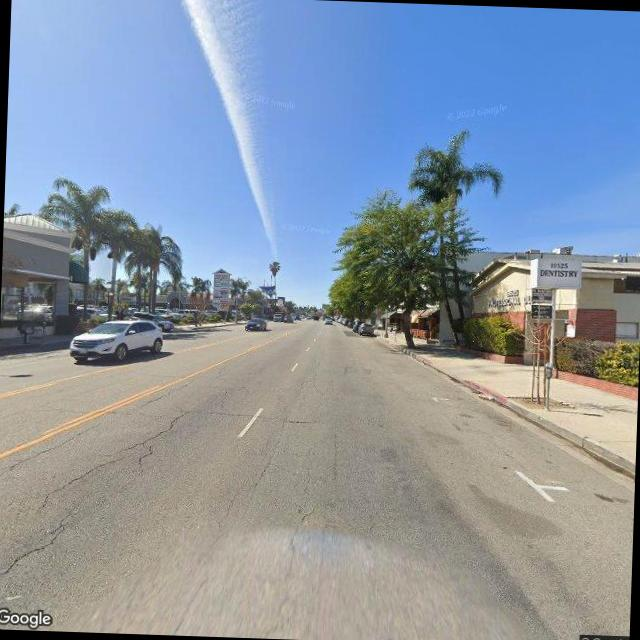crack: (25, 398, 192, 502), (0, 504, 78, 605), (0, 418, 97, 481), (214, 450, 276, 528)
